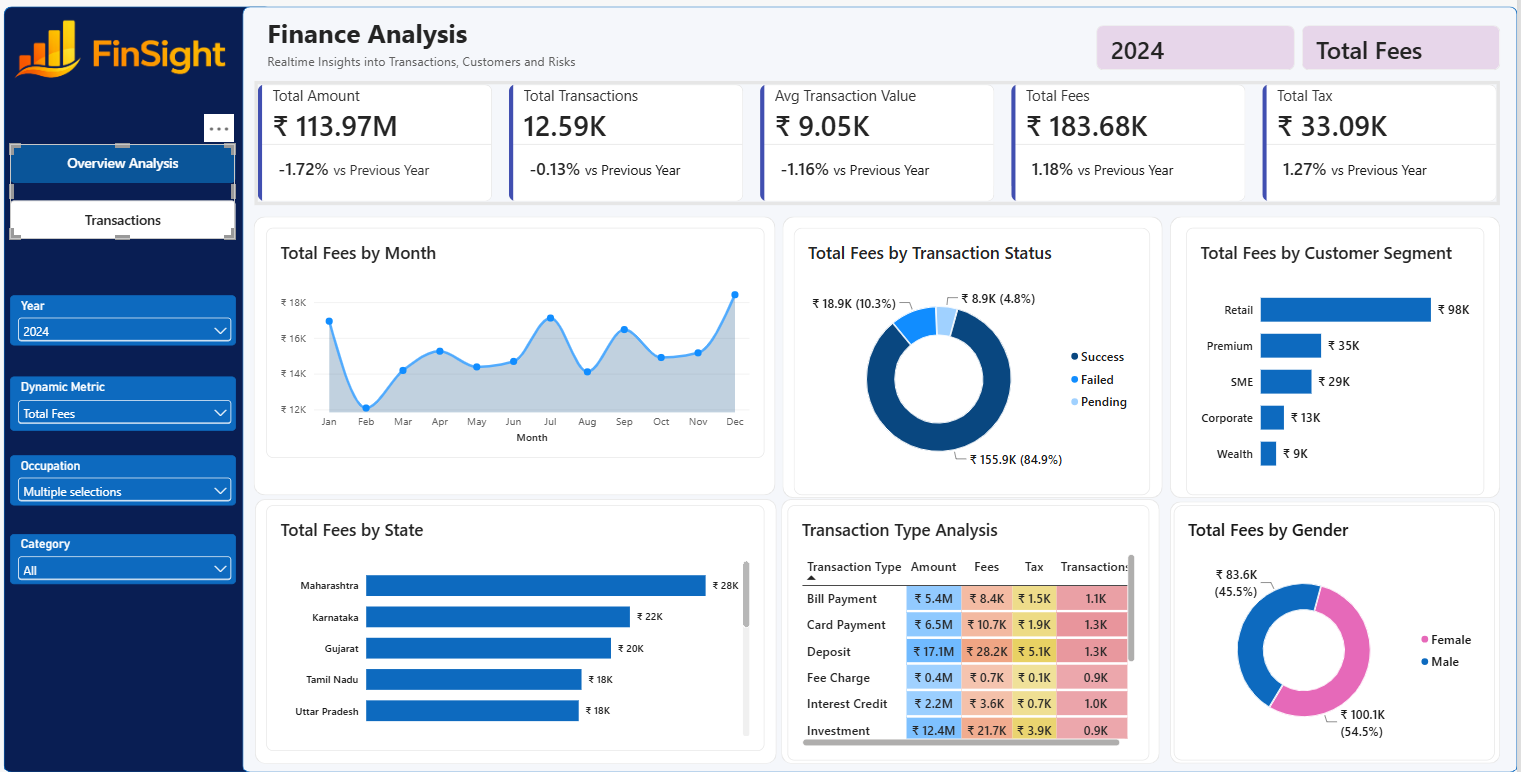

This screenshot's page, from the dashboard's own definition file:
{"tool":"powerbi","page":{"name":"Overview Analysis","canvas":[1800,950],"ordinal":0},"visuals":[{"type":"shape","box":[16.4,26.2,317.2,904.3],"z":0},{"type":"shape","box":[297.6,26.2,1502.7,904.3],"z":1000},{"type":"image","box":[16.4,26.2,281.3,101.4],"z":2000},{"type":"cardVisual","fields":{"Data":["Finance_transaction.Dashboard Title"]},"box":[310.7,26.2,421.9,86.7],"z":3000},{"type":"cardVisual","fields":{"Data":["Finance_transaction.Total Amount","Finance_transaction.Total Transactions","Finance_transaction.Avg Transaction Value","Finance_transaction.Total Fees","Finance_transaction.Total Tax"]},"box":[310.7,112.8,1470,148.8],"z":4000},{"type":"slicer","fields":{"Values":["Calender Table.Year"]},"box":[22.9,366.3,266.5,58.9],"z":5000},{"type":"slicer","fields":{"Values":["Dynamic Metric.Dynamic Metric"]},"box":[22.9,462.8,266.5,63.8],"z":6000},{"type":"shape","box":[310.7,274.7,614.8,328.7],"z":7000},{"type":"areaChart","fields":{"Category":["Calender Table.Month"],"Y":["Finance_transaction.Total Fees"]},"box":[325.4,287.8,587,271.4],"z":8000},{"type":"cardVisual","fields":{"Data":["Finance_transaction.Selected Year","Finance_transaction.Selected Dynamic Measure"]},"box":[1303.2,49.1,477.5,54],"z":9000},{"type":"shape","box":[933.7,274.7,448,331.9],"z":10000},{"type":"donutChart","fields":{"Category":["Finance_transaction.transaction_status"],"Y":["Finance_transaction.Total Fees"]},"box":[946.8,287.8,420.2,315.6],"z":11000},{"type":"shape","box":[1391.5,274.7,389.2,331.9],"z":12000},{"type":"barChart","fields":{"Category":["customers1.customer_segment"],"Y":["Finance_transaction.Total Fees"]},"box":[1409.5,287.8,351.6,315.6],"z":13000},{"type":"shape","box":[312.3,606.7,614.8,312.3],"z":14000},{"type":"barChart","fields":{"Category":["customers1.state"],"Y":["Finance_transaction.Total Fees"]},"box":[325.4,614.8,587,289.4],"z":15000},{"type":"shape","box":[932.8,606.7,446,312.3],"z":16000},{"type":"tableEx","title":"Transaction Type Analysis","fields":{"Values":["Finance_transaction.transaction_type","Finance_transaction.Total Amount","Finance_transaction.Total Fees","Finance_transaction.Total Tax","Finance_transaction.Total Transactions"]},"box":[940.2,614.8,426.8,301],"z":17000},{"type":"shape","box":[1391.5,609.9,389.2,309],"z":18000},{"type":"donutChart","fields":{"Category":["customers1.gender"],"Y":["Finance_transaction.Total Fees"]},"box":[1394.8,614.8,378,300.9],"z":19000},{"type":"slicer","fields":{"Values":["customers1.occupation"]},"box":[22.9,556,266.5,58.9],"z":20000},{"type":"slicer","fields":{"Values":["Finance_transaction.merchant_category"]},"box":[22.9,647.5,266.5,58.9],"z":21000},{"type":"pageNavigator","box":[22.9,188,266.5,112.8],"z":22000}]}

Visuals, with their boxes on the page's 1800x950 design canvas (x1, y1, x2, y2). These are canvas units, not pixel positions in the 1521x772 screenshot, which may show the page scaled, cropped or inside an application window:
shape: rect(16, 26, 334, 930)
shape: rect(298, 26, 1800, 930)
image: rect(16, 26, 298, 128)
cardVisual - Finance_transaction.Dashboard Title: rect(311, 26, 733, 113)
cardVisual - Finance_transaction.Total Amount x Finance_transaction.Total Transactions: rect(311, 113, 1781, 262)
slicer - Calender Table.Year: rect(23, 366, 289, 425)
slicer - Dynamic Metric.Dynamic Metric: rect(23, 463, 289, 527)
shape: rect(311, 275, 926, 603)
areaChart - Calender Table.Month x Finance_transaction.Total Fees: rect(325, 288, 912, 559)
cardVisual - Finance_transaction.Selected Year x Finance_transaction.Selected Dynamic Measure: rect(1303, 49, 1781, 103)
shape: rect(934, 275, 1382, 607)
donutChart - Finance_transaction.transaction_status x Finance_transaction.Total Fees: rect(947, 288, 1367, 603)
shape: rect(1392, 275, 1781, 607)
barChart - customers1.customer_segment x Finance_transaction.Total Fees: rect(1410, 288, 1761, 603)
shape: rect(312, 607, 927, 919)
barChart - customers1.state x Finance_transaction.Total Fees: rect(325, 615, 912, 904)
shape: rect(933, 607, 1379, 919)
"Transaction Type Analysis" tableEx: rect(940, 615, 1367, 916)
shape: rect(1392, 610, 1781, 919)
donutChart - customers1.gender x Finance_transaction.Total Fees: rect(1395, 615, 1773, 916)
slicer - customers1.occupation: rect(23, 556, 289, 615)
slicer - Finance_transaction.merchant_category: rect(23, 648, 289, 706)
pageNavigator: rect(23, 188, 289, 301)
